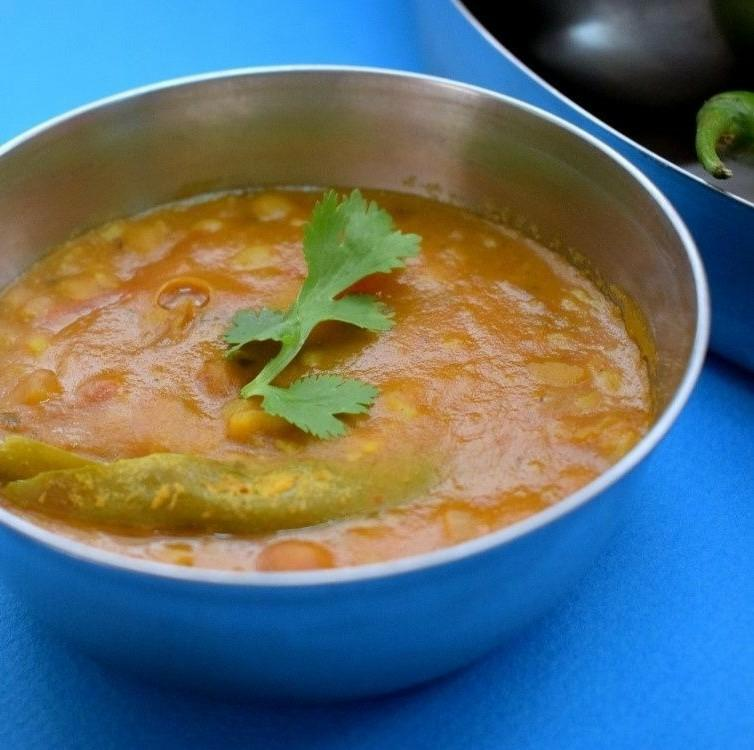Dal: (0, 180, 655, 571)
